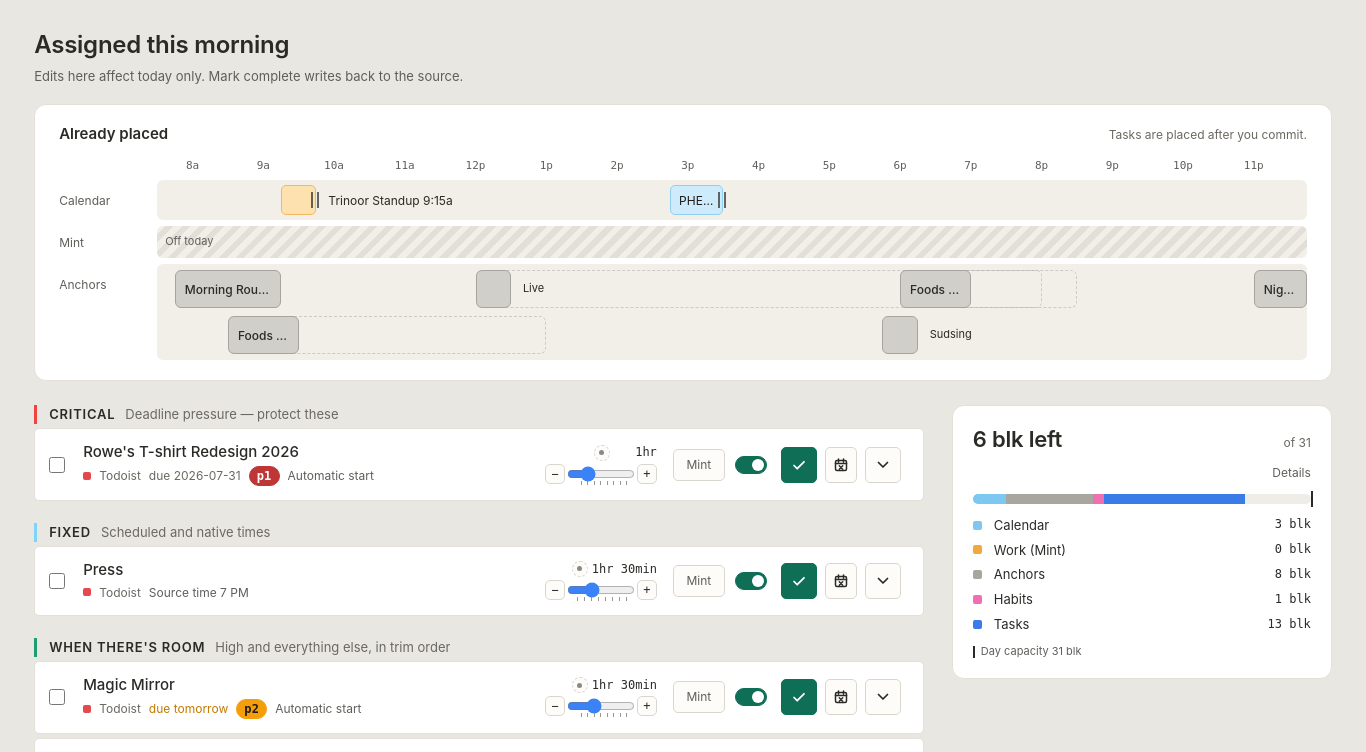
Scenario: duration slider stops › keeps All-day closed at 15 minutes for a protected native time
Click the button named "Expand" in the row of "Source time 7 PM" at (883, 581), box [865,563,901,599]
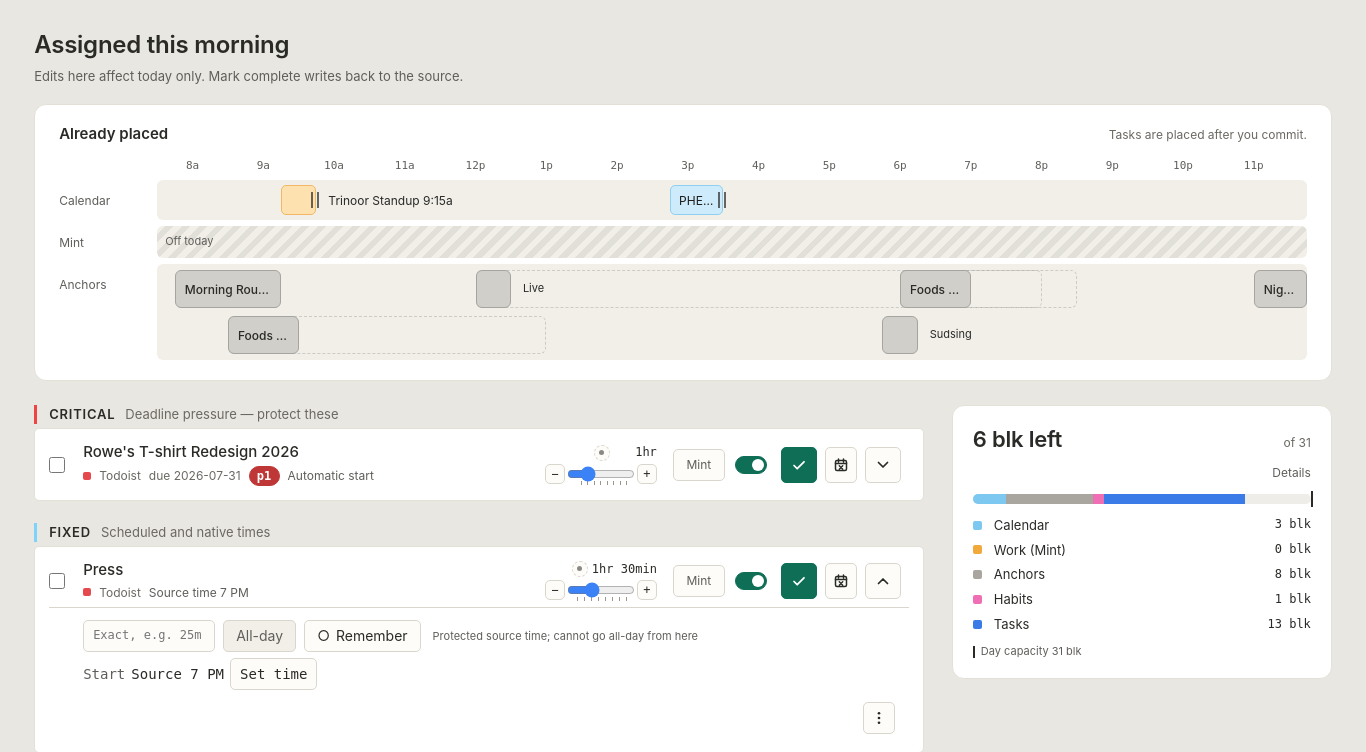
Result: the button "All-day" is disabled at [223,620,296,652]
Press Home in the slider named "Duration slider" in the row of "Source time 7 PM", box [567,579,635,601]
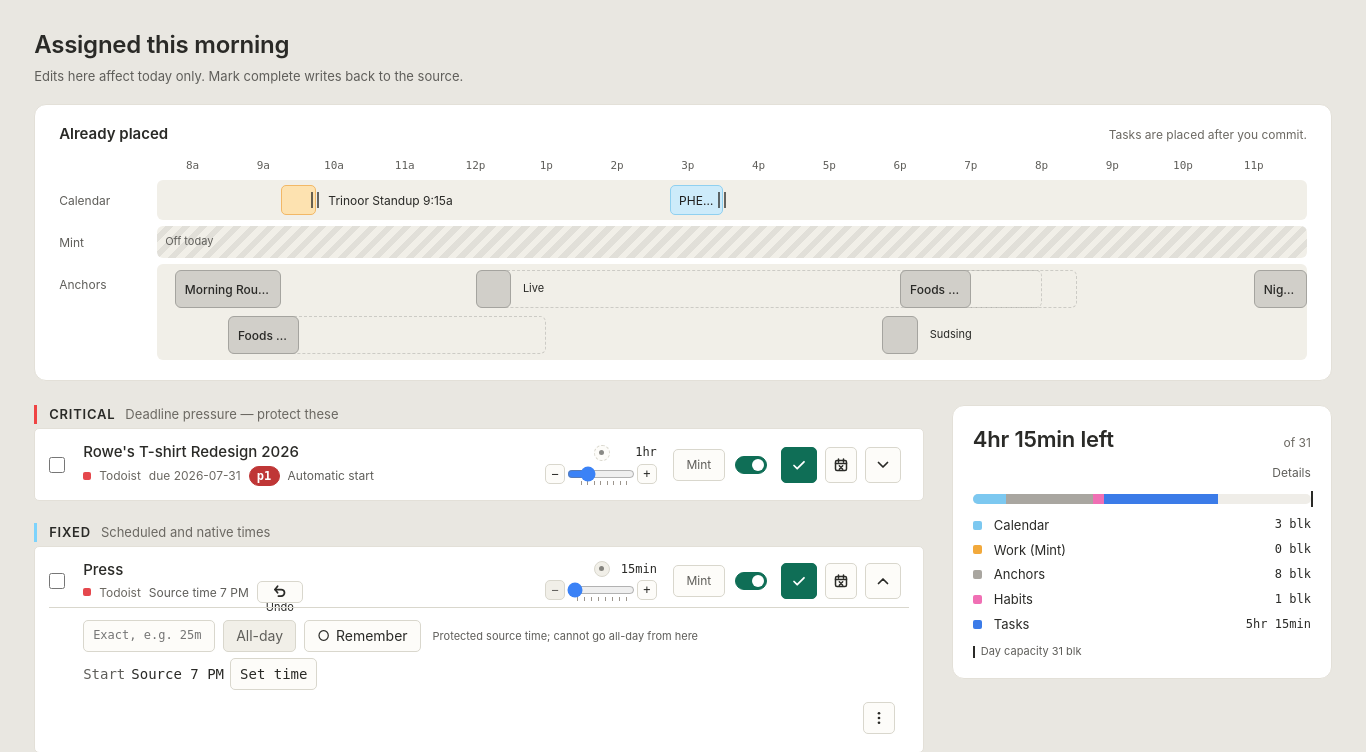
Result: the slider named "Duration slider" in the row of "Source time 7 PM" holds "15" at [567,579,635,601]
